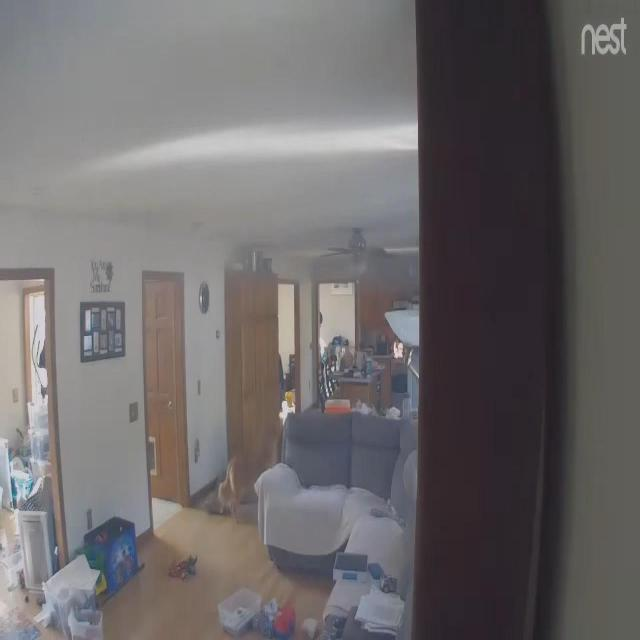fire: (393, 339, 403, 358)
